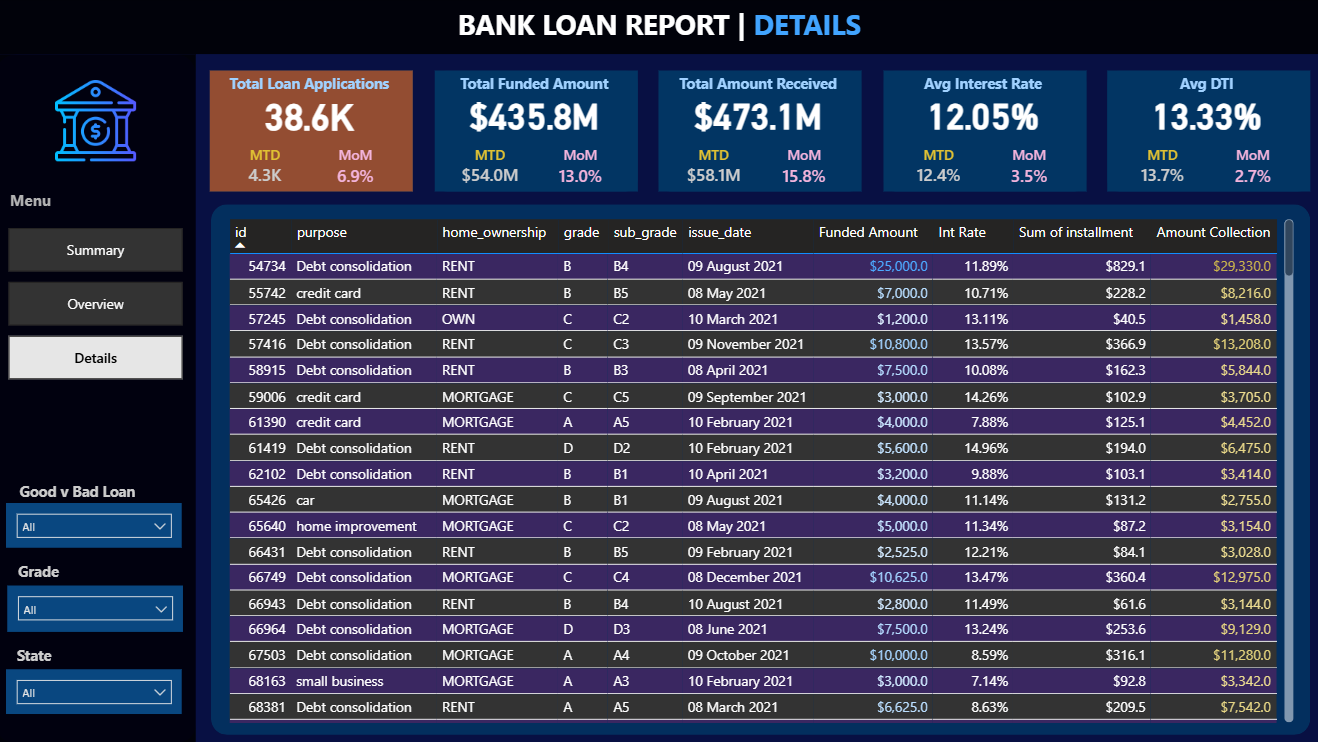

Layout of this report page (visuals, bound fields, positions):
{"tool":"powerbi","page":{"name":"Details","canvas":[1280,720],"ordinal":2},"visuals":[{"type":"shape","box":[0,0,1280.5,54.6],"z":0},{"type":"group","id":"g1","title":"Group 1","box":[203.1,69.4,199.4,120.6],"z":0,"group":"g7"},{"type":"group","id":"g2","title":"Group 1","box":[419.5,69.4,199.4,120.6],"z":0,"group":"g8"},{"type":"group","id":"g3","title":"Group 1","box":[636,69.4,199.4,120.6],"z":0,"group":"g9"},{"type":"group","id":"g4","title":"Group 1","box":[852.6,69.4,199.4,120.6],"z":0,"group":"g10"},{"type":"group","id":"g5","title":"Group 1","box":[1069.1,69.4,199.4,120.6],"z":0,"group":"g11"},{"type":"textbox","box":[203.6,67.3,199.3,30.8],"z":1000,"group":"g7"},{"type":"textbox","box":[420,67.3,199.3,30.8],"z":1000,"group":"g8"},{"type":"textbox","box":[636.5,67.3,199.3,30.8],"z":1000,"group":"g9"},{"type":"textbox","box":[853.1,67.3,199.3,30.8],"z":1000,"group":"g10"},{"type":"textbox","box":[1069.6,67.3,199.3,30.8],"z":1000,"group":"g11"},{"type":"shape","box":[207,199.6,1060.9,512.2],"z":1000},{"type":"textbox","box":[8.1,461.6,140,35.6],"z":1000,"group":"g16"},{"type":"textbox","box":[9.9,539.5,62.5,32.4],"z":1000,"group":"g17"},{"type":"textbox","box":[1.8,620.6,71.2,29.7],"z":1000,"group":"g18"},{"type":"shape","box":[0,54.6,192.9,665.8],"z":2000},{"type":"shape","box":[0,54.6,192.9,665.8],"z":3000},{"type":"shape","box":[206.5,69.4,195.9,117.2],"z":3000,"group":"g1"},{"type":"shape","box":[422.9,69.4,195.9,117.2],"z":3000,"group":"g2"},{"type":"shape","box":[639.4,69.4,195.9,117.2],"z":3000,"group":"g3"},{"type":"shape","box":[856,69.4,195.9,117.2],"z":3000,"group":"g4"},{"type":"shape","box":[1072.5,69.4,195.9,117.2],"z":3000,"group":"g5"},{"type":"textbox","box":[403,2.1,474.5,45.6],"z":4000},{"type":"group","id":"g6","title":"Group 3","box":[203.1,67.3,199.8,123.3],"z":7000},{"type":"group","id":"g7","title":"Group 2","box":[203.1,67.3,199.8,122.6],"z":7000,"group":"g6"},{"type":"group","id":"g8","title":"Group 2","box":[419.5,67.3,199.8,122.6],"z":7000,"group":"g12"},{"type":"group","id":"g9","title":"Group 2","box":[636,67.3,199.8,122.6],"z":7000,"group":"g13"},{"type":"group","id":"g10","title":"Group 2","box":[852.6,67.3,199.8,122.6],"z":7000,"group":"g14"},{"type":"group","id":"g11","title":"Group 2","box":[1069.1,67.3,199.8,122.6],"z":7000,"group":"g15"},{"type":"group","id":"g12","title":"Group 3","box":[419.5,67.3,199.9,123.3],"z":8000},{"type":"card","fields":{"Values":["financial_loan.Total Loan Applications"]},"box":[203.1,88.3,199.3,45.5],"z":8000,"group":"g1"},{"type":"card","fields":{"Values":["financial_loan.Total Loan Amount"]},"box":[419.5,88.3,199.3,45.5],"z":8000,"group":"g2"},{"type":"card","fields":{"Values":["financial_loan.Total Amount Collection"]},"box":[636,88.3,199.3,45.5],"z":8000,"group":"g3"},{"type":"card","fields":{"Values":["financial_loan.Avg Interest Rate"]},"box":[852.6,88.3,199.3,45.5],"z":8000,"group":"g4"},{"type":"card","fields":{"Values":["financial_loan.Avg DTI"]},"box":[1069.1,88.3,199.3,45.5],"z":8000,"group":"g5"},{"type":"card","title":"MoM","fields":{"Values":["financial_loan.YOY Loan Applications"]},"box":[303.6,141.9,88.1,48.7],"z":8000,"group":"g6"},{"type":"card","title":"MoM","fields":{"Values":["financial_loan.YOY Loan Amount"]},"box":[520,141.9,88.1,48.7],"z":8000,"group":"g12"},{"type":"card","title":"MoM","fields":{"Values":["financial_loan.YOY Loan Collection"]},"box":[736.5,141.9,88.1,48.7],"z":8000,"group":"g13"},{"type":"card","title":"MoM","fields":{"Values":["financial_loan.YOY Int Rate"]},"box":[953.1,141.9,88.1,48.7],"z":8000,"group":"g14"},{"type":"card","title":"MoM","fields":{"Values":["financial_loan.YOY DTI"]},"box":[1169.6,141.9,88.1,48.7],"z":8000,"group":"g15"},{"type":"group","id":"g13","title":"Group 3","box":[636,67.3,199.9,123.3],"z":9000},{"type":"card","title":"MTD","fields":{"Values":["financial_loan.MTD Applications"]},"box":[209.8,142,99.3,48],"z":9000,"group":"g1"},{"type":"card","title":"MTD","fields":{"Values":["financial_loan.MTD Loan Amount"]},"box":[426.2,142,99.3,48],"z":9000,"group":"g2"},{"type":"card","title":"MTD","fields":{"Values":["financial_loan.MTD Loan Collection"]},"box":[642.7,142,99.3,48],"z":9000,"group":"g3"},{"type":"card","title":"MTD","fields":{"Values":["financial_loan.MTD Avg Int Rate"]},"box":[859.3,142,99.3,48],"z":9000,"group":"g4"},{"type":"card","title":"MTD","fields":{"Values":["financial_loan.MTD Avg DTI"]},"box":[1075.8,142,99.3,48],"z":9000,"group":"g5"},{"type":"group","id":"g14","title":"Group 3","box":[852.6,67.3,199.9,123.3],"z":10000},{"type":"group","id":"g15","title":"Group 3","box":[1069.1,67.3,199.9,123.3],"z":11000},{"type":"image","box":[26.8,69.2,138.4,99.3],"z":12000},{"type":"slicer","fields":{"Values":["financial_loan.Good v Bad Loan"]},"box":[10.1,487,169.7,43],"z":13000},{"type":"slicer","fields":{"Values":["financial_loan.grade"]},"box":[10.4,566.7,169.9,44.5],"z":14000},{"type":"slicer","fields":{"Values":["financial_loan.address_state"]},"box":[10,647.3,169.9,43.5],"z":15000},{"type":"group","id":"g16","title":"Group 2","box":[8.1,461.6,140,35.6],"z":16000},{"type":"group","id":"g17","title":"Group 2","box":[9.9,539.5,62.5,32.4],"z":17000},{"type":"group","id":"g18","title":"Group 2","box":[1.8,620.6,71.2,29.7],"z":18000},{"type":"pageNavigator","box":[11.9,221.9,168.5,147.2],"z":19000},{"type":"textbox","box":[8.3,180.3,157.5,34.2],"z":20000},{"type":"tableEx","fields":{"Values":["financial_loan.id","financial_loan.purpose","financial_loan.home_ownership","financial_loan.grade","financial_loan.sub_grade","financial_loan.issue_date","financial_loan.Total Funded Amount","Sum(financial_loan.int_rate)","Sum(financial_loan.installment)","financial_loan.Total Amount Collection"]},"box":[219.6,209.3,1038,495.2],"z":21000}]}

Visuals, with their boxes in screenshot pixels (x1, y1, x2, y2), scaled from the page's 1280x720 canvas onto the 1318x742 screenshot:
shape: bbox(0, 0, 1317, 56)
"Group 1" group: bbox(209, 72, 414, 196)
"Group 1" group: bbox(432, 72, 637, 196)
"Group 1" group: bbox(655, 72, 860, 196)
"Group 1" group: bbox(878, 72, 1083, 196)
"Group 1" group: bbox(1101, 72, 1306, 196)
textbox: bbox(210, 69, 415, 101)
textbox: bbox(432, 69, 638, 101)
textbox: bbox(655, 69, 861, 101)
textbox: bbox(878, 69, 1084, 101)
textbox: bbox(1101, 69, 1307, 101)
shape: bbox(213, 206, 1306, 734)
textbox: bbox(8, 476, 152, 512)
textbox: bbox(10, 556, 75, 589)
textbox: bbox(2, 640, 75, 670)
shape: bbox(0, 56, 199, 741)
shape: bbox(0, 56, 199, 741)
shape: bbox(213, 72, 414, 192)
shape: bbox(435, 72, 637, 192)
shape: bbox(658, 72, 860, 192)
shape: bbox(881, 72, 1083, 192)
shape: bbox(1104, 72, 1306, 192)
textbox: bbox(415, 2, 904, 49)
"Group 3" group: bbox(209, 69, 415, 196)
"Group 2" group: bbox(209, 69, 415, 196)
"Group 2" group: bbox(432, 69, 638, 196)
"Group 2" group: bbox(655, 69, 861, 196)
"Group 2" group: bbox(878, 69, 1084, 196)
"Group 2" group: bbox(1101, 69, 1307, 196)
"Group 3" group: bbox(432, 69, 638, 196)
card - financial_loan.Total Loan Applications: bbox(209, 91, 414, 138)
card - financial_loan.Total Loan Amount: bbox(432, 91, 637, 138)
card - financial_loan.Total Amount Collection: bbox(655, 91, 860, 138)
card - financial_loan.Avg Interest Rate: bbox(878, 91, 1083, 138)
card - financial_loan.Avg DTI: bbox(1101, 91, 1306, 138)
"MoM" card: bbox(313, 146, 403, 196)
"MoM" card: bbox(535, 146, 626, 196)
"MoM" card: bbox(758, 146, 849, 196)
"MoM" card: bbox(981, 146, 1072, 196)
"MoM" card: bbox(1204, 146, 1295, 196)
"Group 3" group: bbox(655, 69, 861, 196)
"MTD" card: bbox(216, 146, 318, 196)
"MTD" card: bbox(439, 146, 541, 196)
"MTD" card: bbox(662, 146, 764, 196)
"MTD" card: bbox(885, 146, 987, 196)
"MTD" card: bbox(1108, 146, 1210, 196)
"Group 3" group: bbox(878, 69, 1084, 196)
"Group 3" group: bbox(1101, 69, 1307, 196)
image: bbox(28, 71, 170, 174)
slicer - financial_loan.Good v Bad Loan: bbox(10, 502, 185, 546)
slicer - financial_loan.grade: bbox(11, 584, 186, 630)
slicer - financial_loan.address_state: bbox(10, 667, 185, 712)
"Group 2" group: bbox(8, 476, 152, 512)
"Group 2" group: bbox(10, 556, 75, 589)
"Group 2" group: bbox(2, 640, 75, 670)
pageNavigator: bbox(12, 229, 186, 380)
textbox: bbox(9, 186, 171, 221)
tableEx - financial_loan.id x financial_loan.purpose: bbox(226, 216, 1295, 726)
